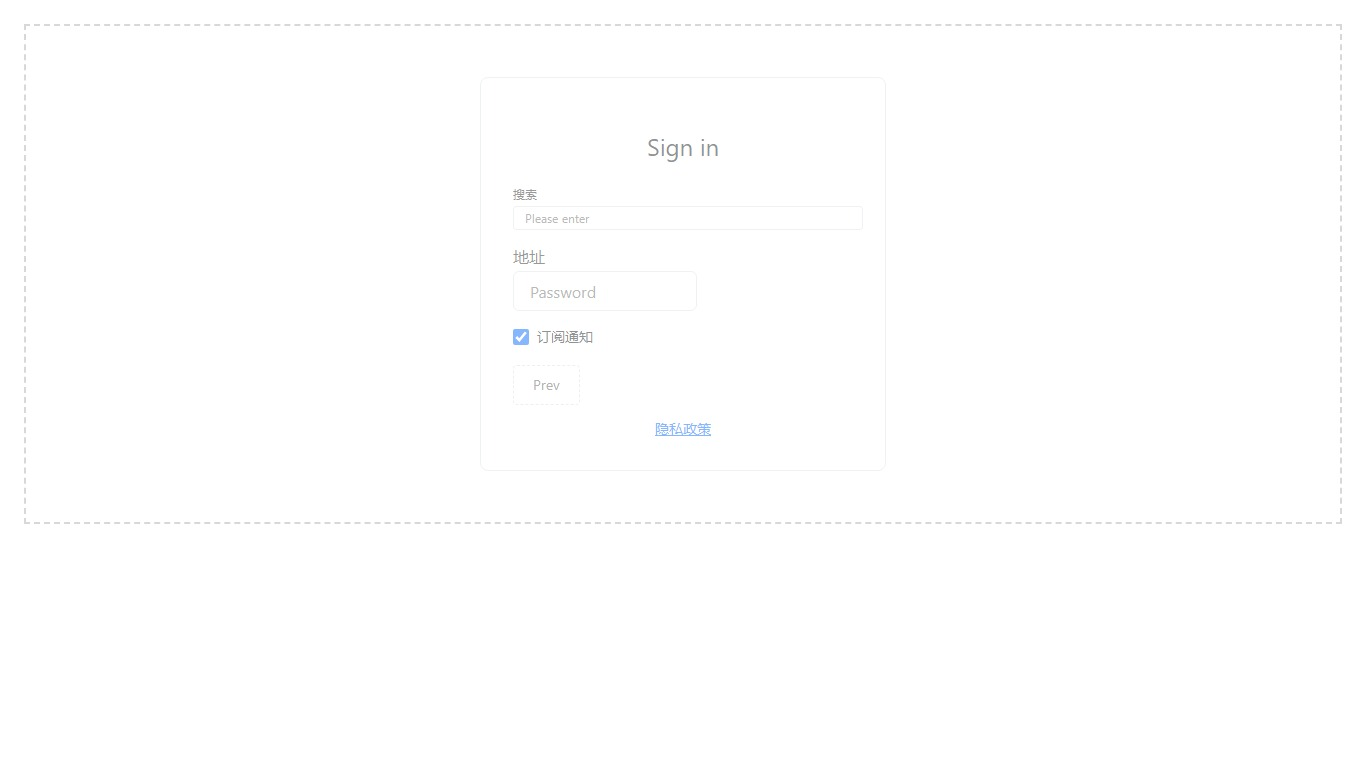button: (513, 365, 580, 405)
checkbox: (513, 329, 529, 345)
icon: (537, 327, 593, 346)
input: (513, 206, 863, 230), (513, 271, 697, 311)
link: (655, 419, 711, 438)
modal: (24, 24, 1342, 524)
radio: (513, 327, 593, 346)
